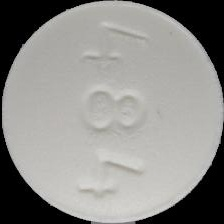0555-0484: (0, 0, 224, 224)
